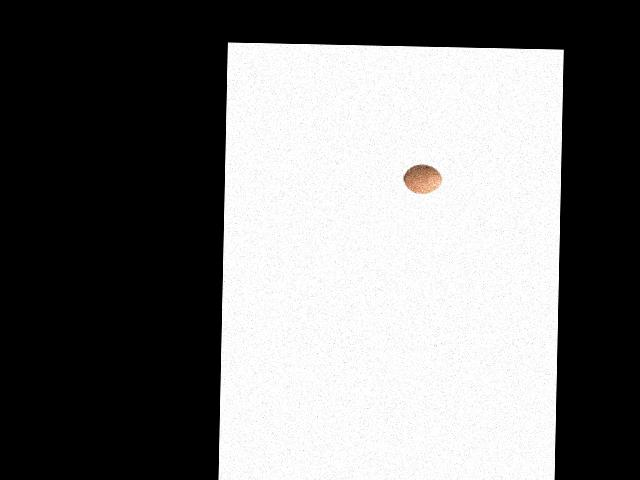egg: (403, 163, 441, 193)
